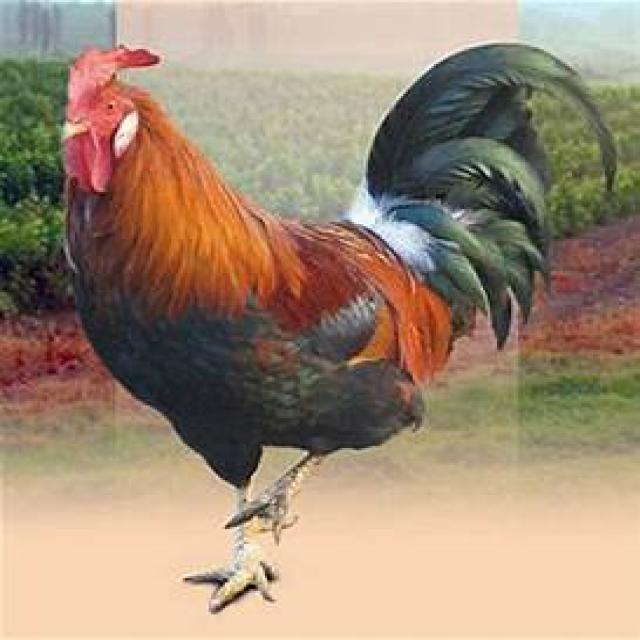hen: (59, 45, 574, 610)
